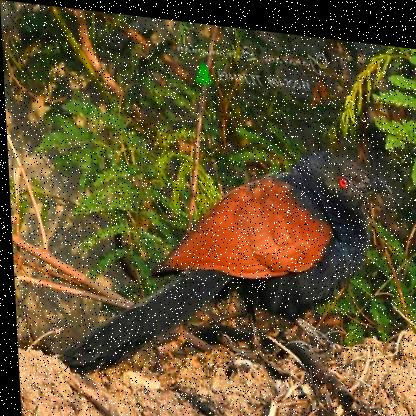Burung: (46, 117, 400, 405)
